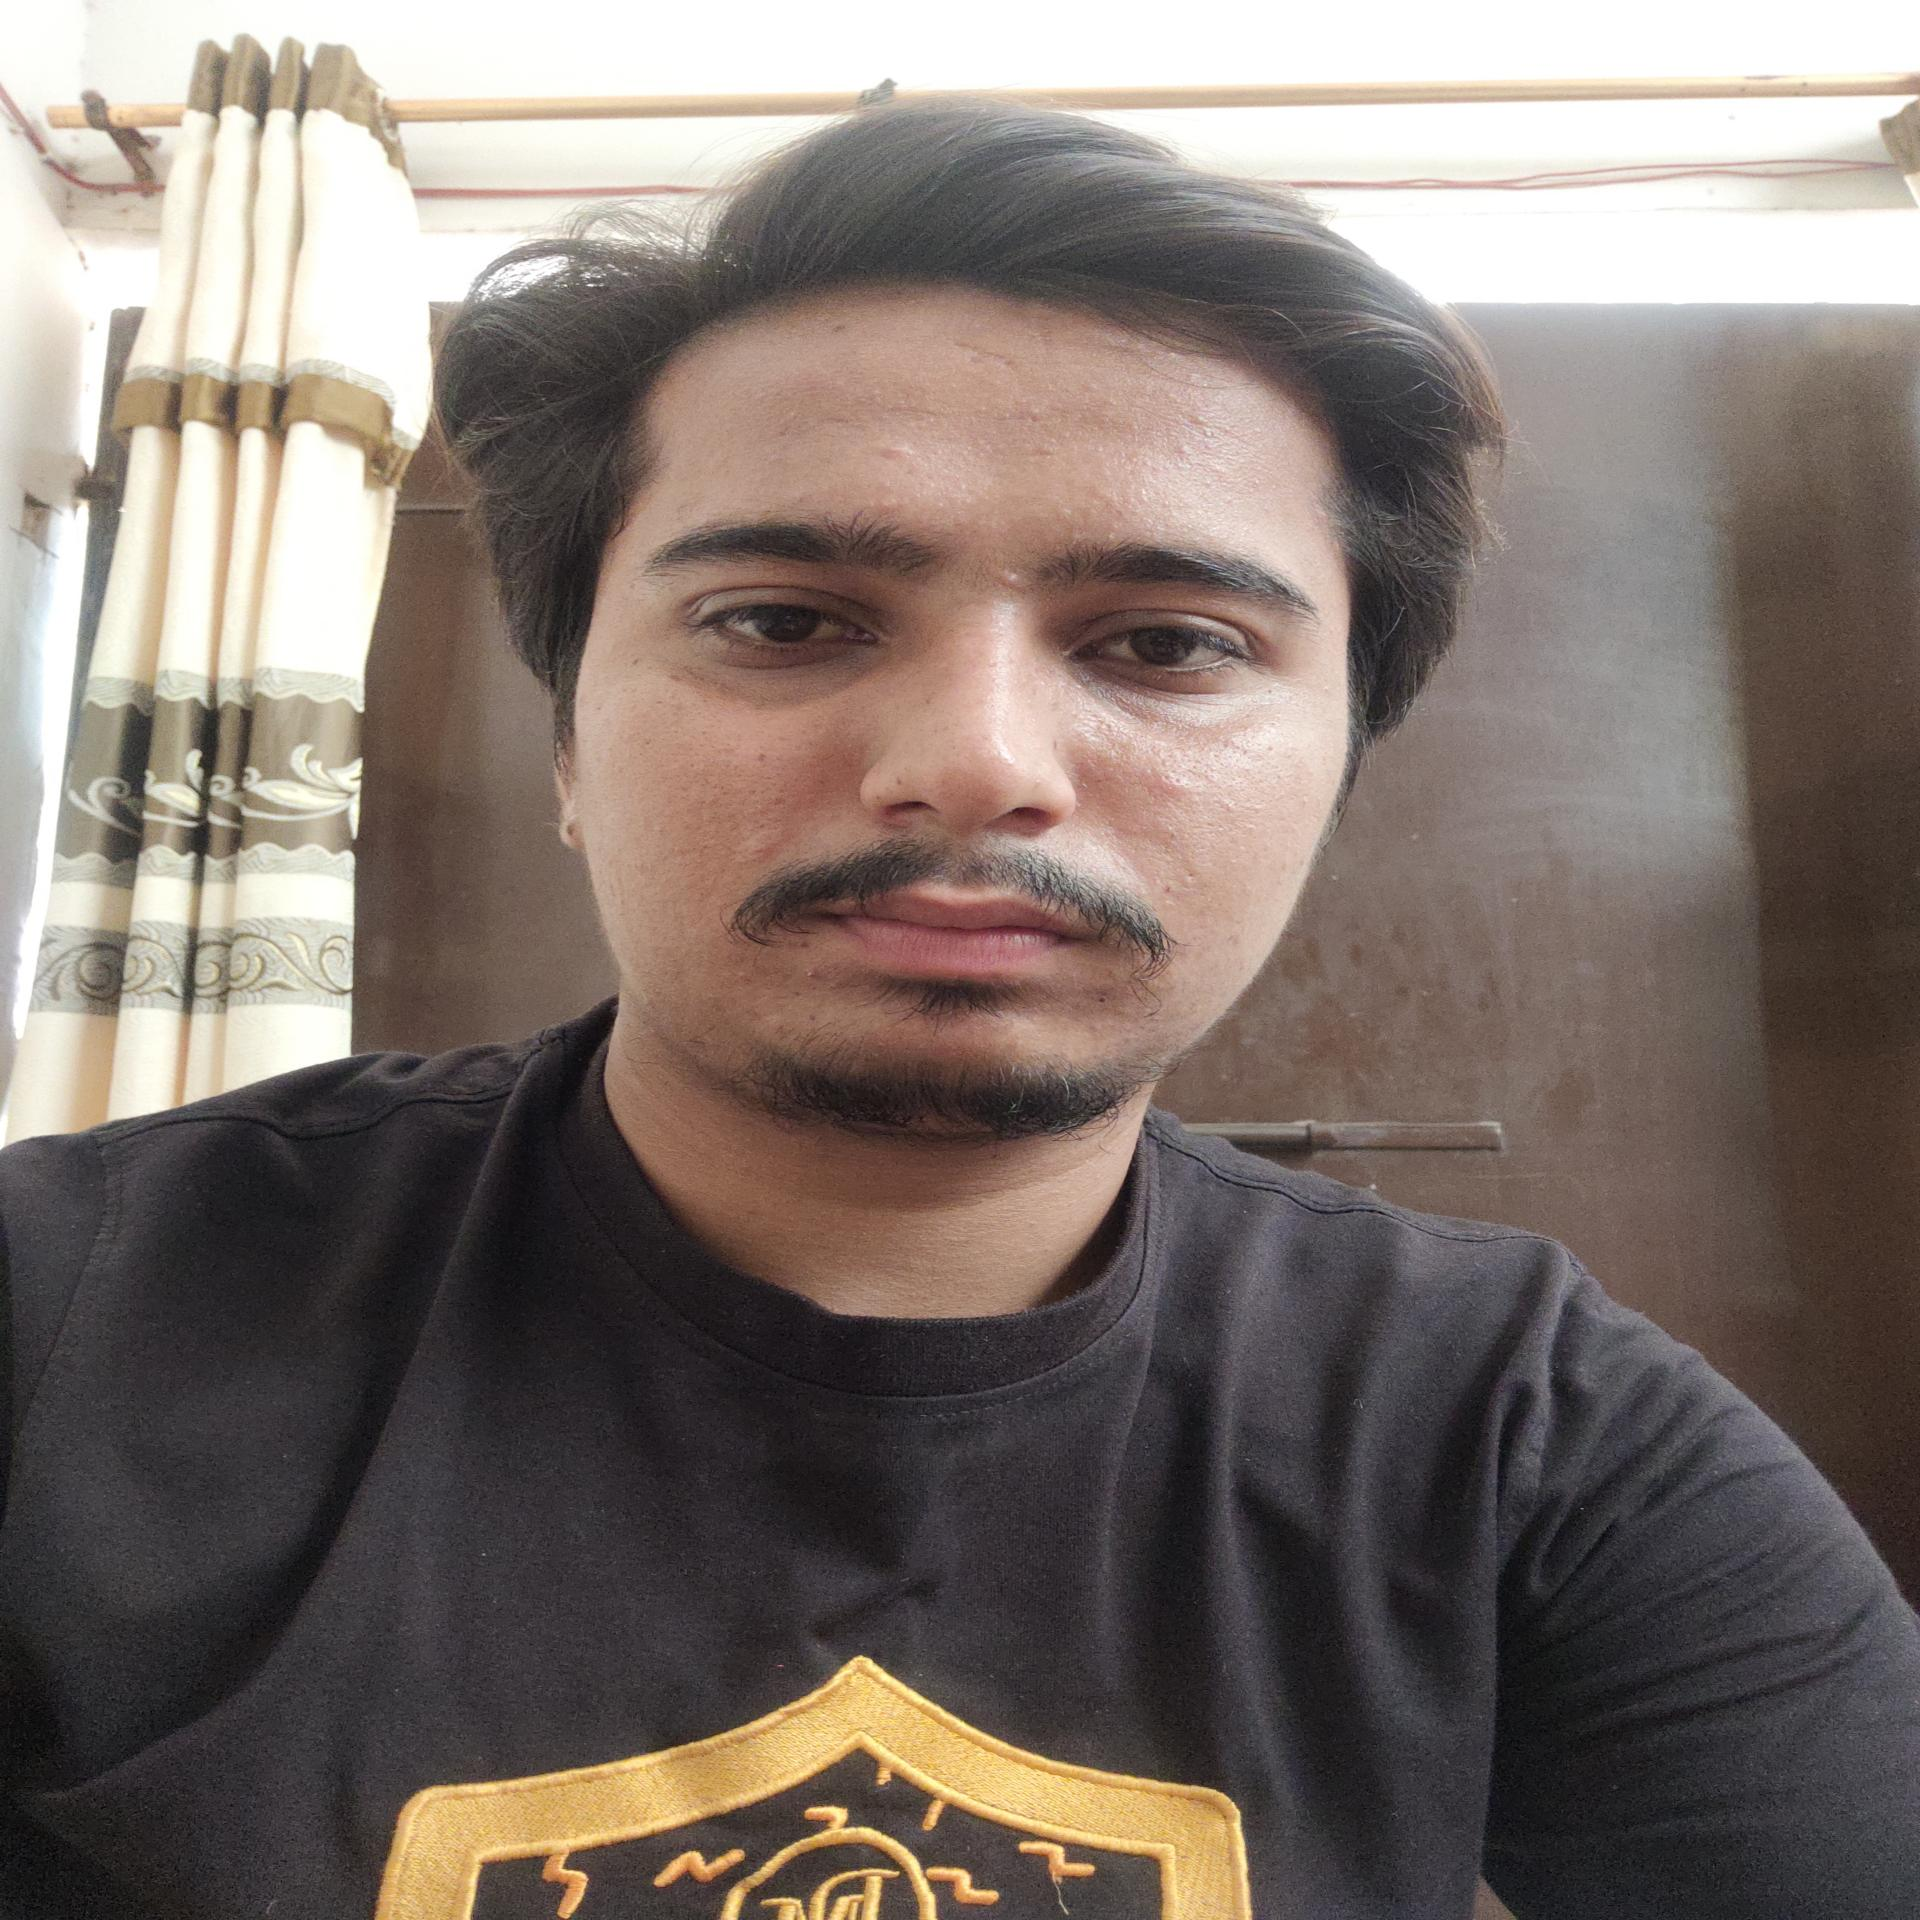Acne: (1141, 763, 1201, 805), (988, 564, 1025, 589), (877, 441, 921, 461), (870, 494, 905, 512), (1187, 410, 1215, 429), (1167, 440, 1197, 457), (795, 965, 823, 983), (1180, 867, 1199, 886)
Dark Circles: (673, 633, 897, 712), (1065, 658, 1273, 740)
Englarged Pores: (1090, 705, 1269, 844), (661, 737, 791, 856)
Wrinkles: (863, 404, 1083, 427)
